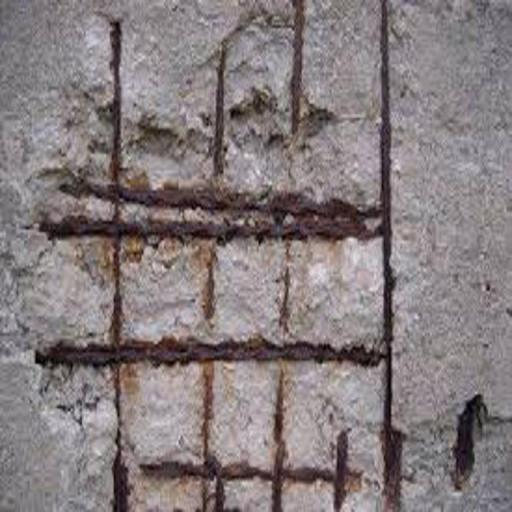spalling: (35, 1, 430, 512)
